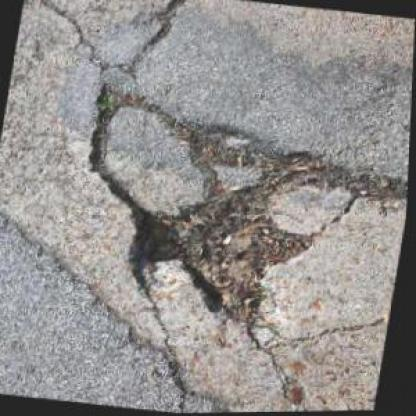pothole: (58, 78, 383, 341)
